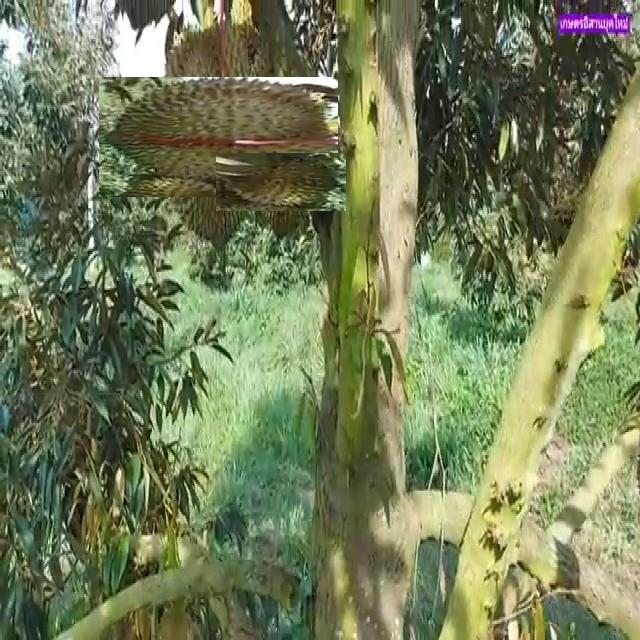durian: (128, 47, 308, 227), (234, 135, 329, 229)
